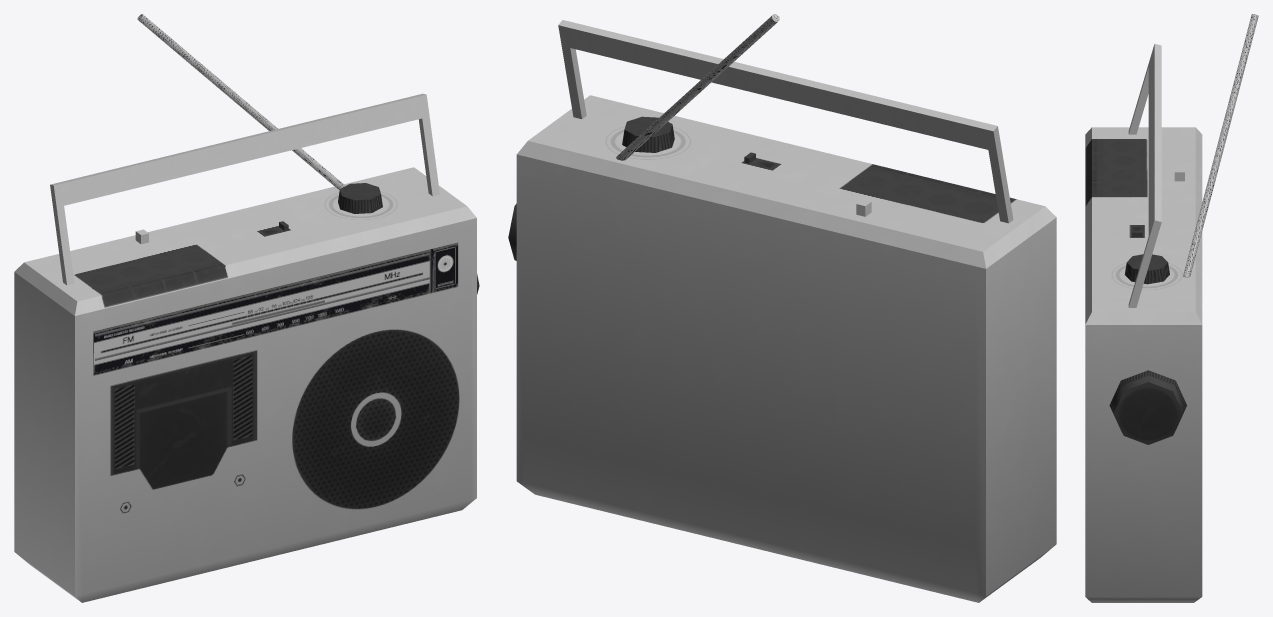
File: classic radio varation.fbx
3 renders of one model, left to right at view 1: azimuth 30°, elevation 25°; view 2: azimuth 150°, elevation 25°; view 3: azimuth 270°, elevation 25°, orthographic. The views are drawn at different scales.
Parts seen in each view (by area): view 1: low; view 2: low; view 3: low.
Part boxes in pixels (x1=…): low: x1=14, y1=14, x2=479, y2=602; low: x1=508, y1=14, x2=1056, y2=602; low: x1=1085, y1=14, x2=1258, y2=602.
Size of the model in its own units: 99.96 by 112 by 36.93.
